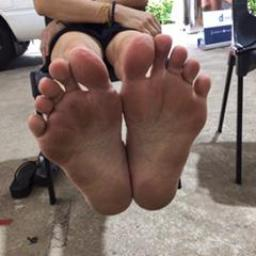Plantar View -Both Feet-: (26, 28, 216, 228)
